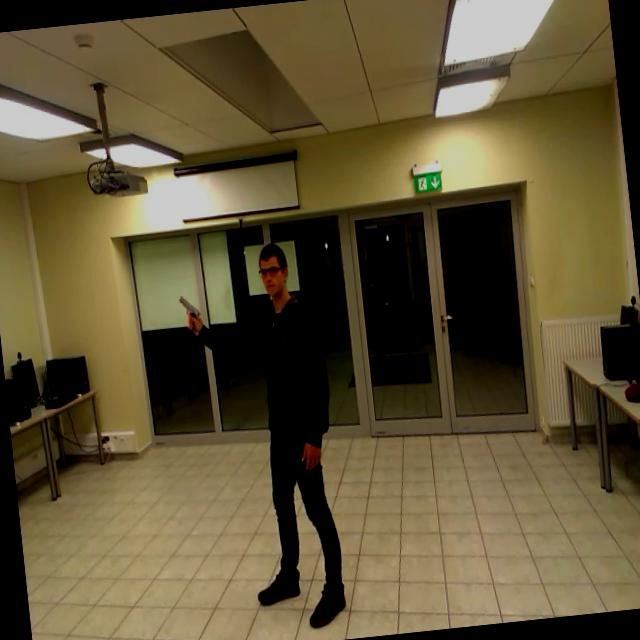handgun: (170, 286, 208, 338)
